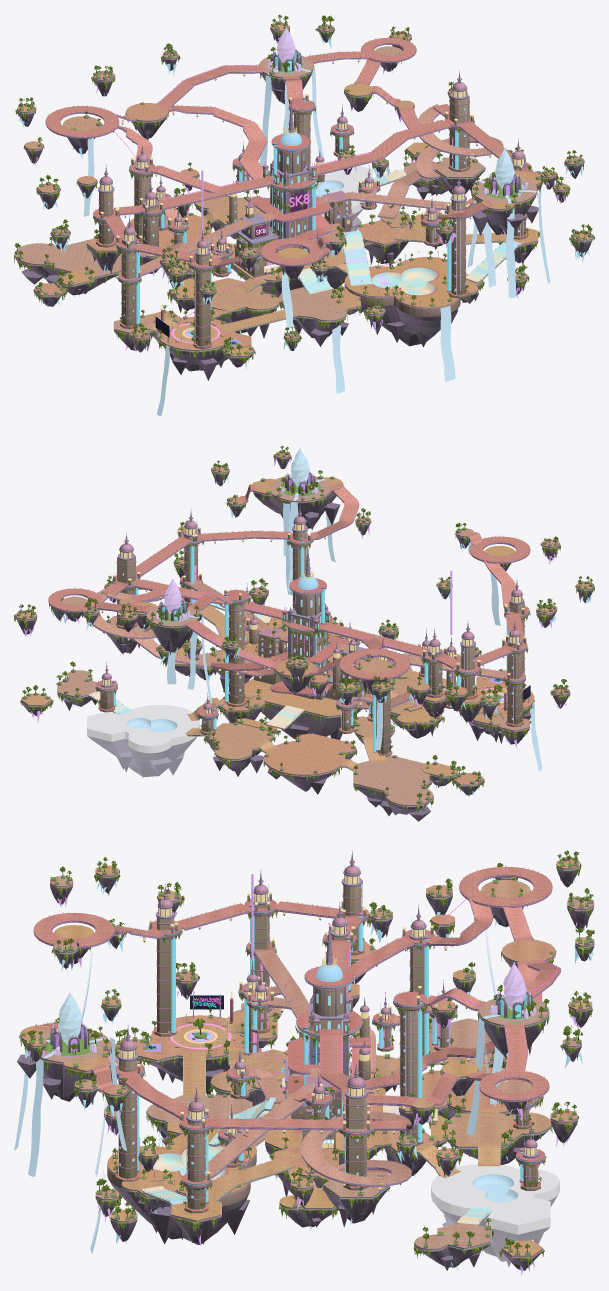
The model's file is zone_skyline_visual.glb.
3 renders of one model, top to bottom at view 1: azimuth 30°, elevation 25°; view 2: azimuth 150°, elevation 25°; view 3: azimuth 270°, elevation 25°, orthographic. The views are drawn at different scales.
Visible parts, largest first — view 1: zone_skyline_visual.001; view 2: zone_skyline_visual.001; view 3: zone_skyline_visual.001.
Boxes of the visible parts, x1,y1,x2,y2 form: zone_skyline_visual.001: (14, 14, 594, 416); zone_skyline_visual.001: (14, 446, 594, 821); zone_skyline_visual.001: (14, 850, 594, 1275).
Bounding box in the file's own units: 311 × 160 × 280.
Materials: 6 (6 with a texture image).
